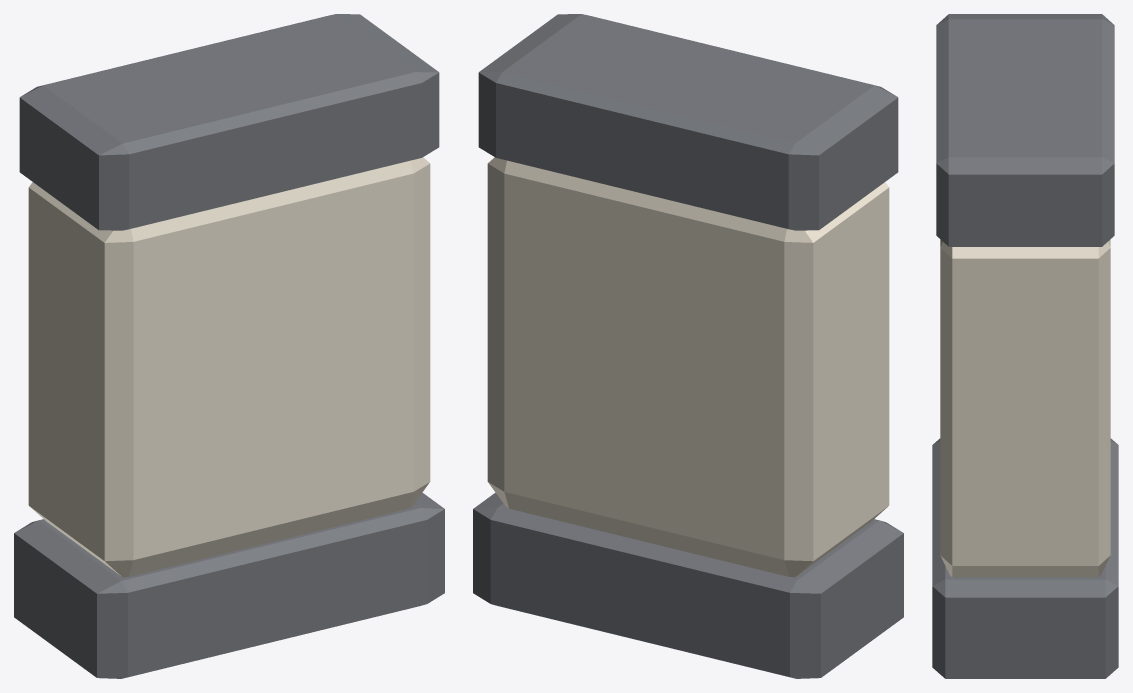
Rendered from b14_postal_carrier_satchel.glb.
3 views of the same model, side by side, from view 1: azimuth 30°, elevation 25°; view 2: azimuth 150°, elevation 25°; view 3: azimuth 270°, elevation 25° (orthographic). The views are drawn at different scales.
Visible parts, largest first — view 1: b14_postal_carrier_satchel; view 2: b14_postal_carrier_satchel; view 3: b14_postal_carrier_satchel.
Boxes of the visible parts, x1,y1,x2,y2 form: b14_postal_carrier_satchel: (14,14,444,678); b14_postal_carrier_satchel: (473,14,903,678); b14_postal_carrier_satchel: (932,14,1118,678).
Size of the model in its own units: 0.4 by 0.586 by 0.192.
